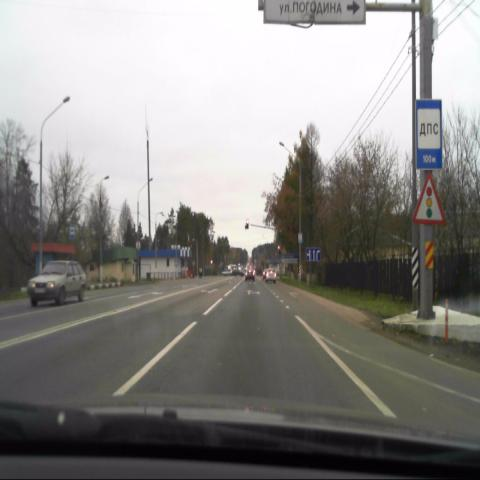7_12: (415, 99, 442, 169)
